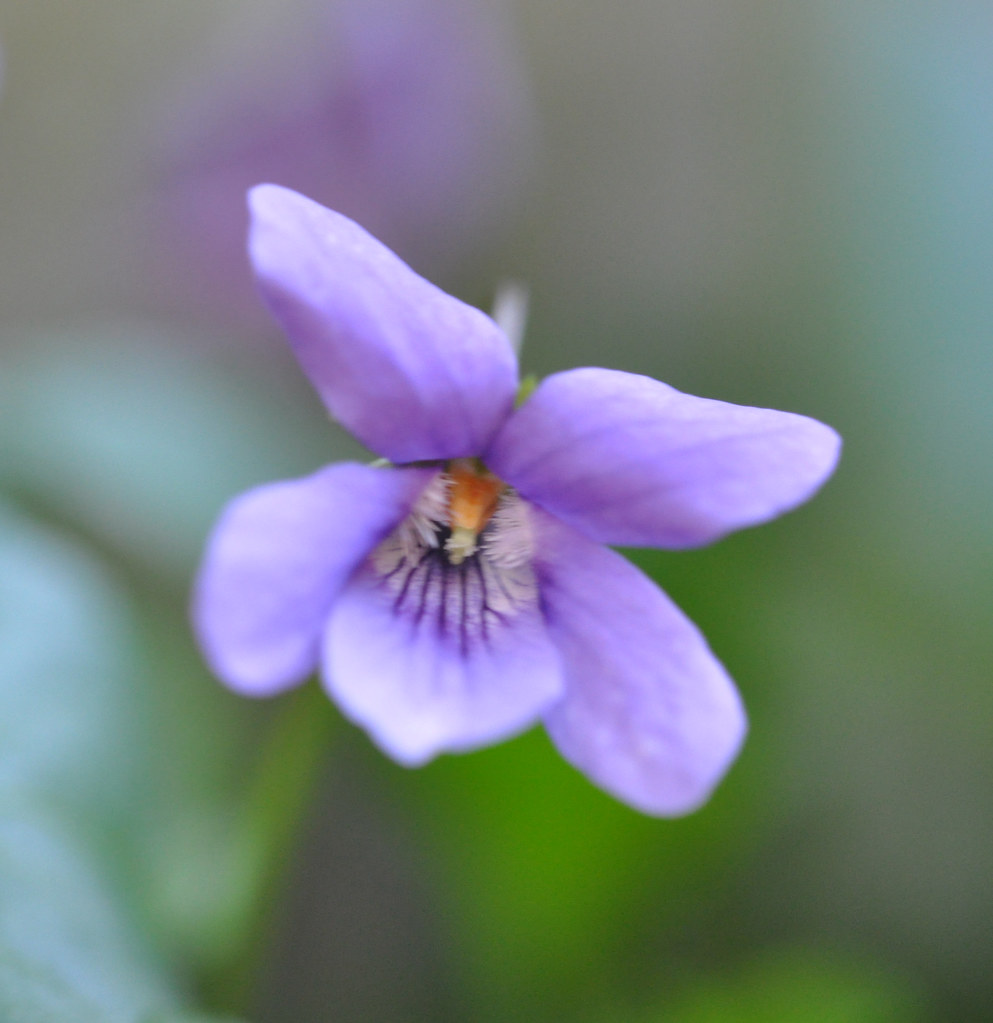violet: (181, 178, 855, 831)
